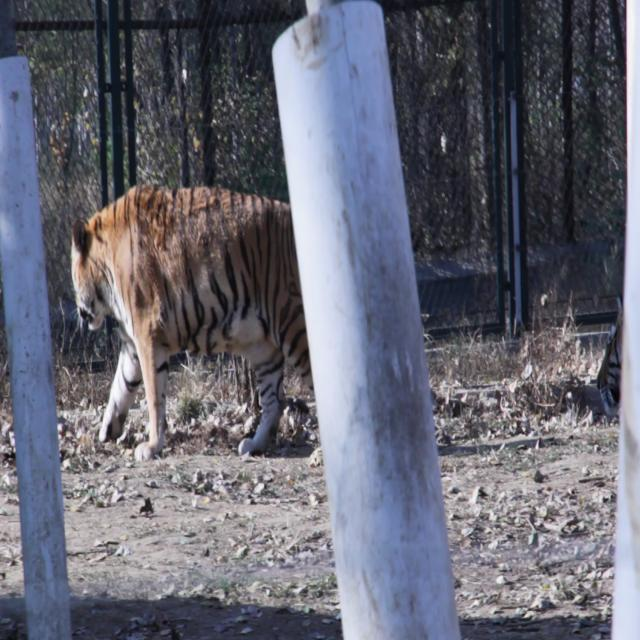Tiger: (66, 165, 323, 475)
